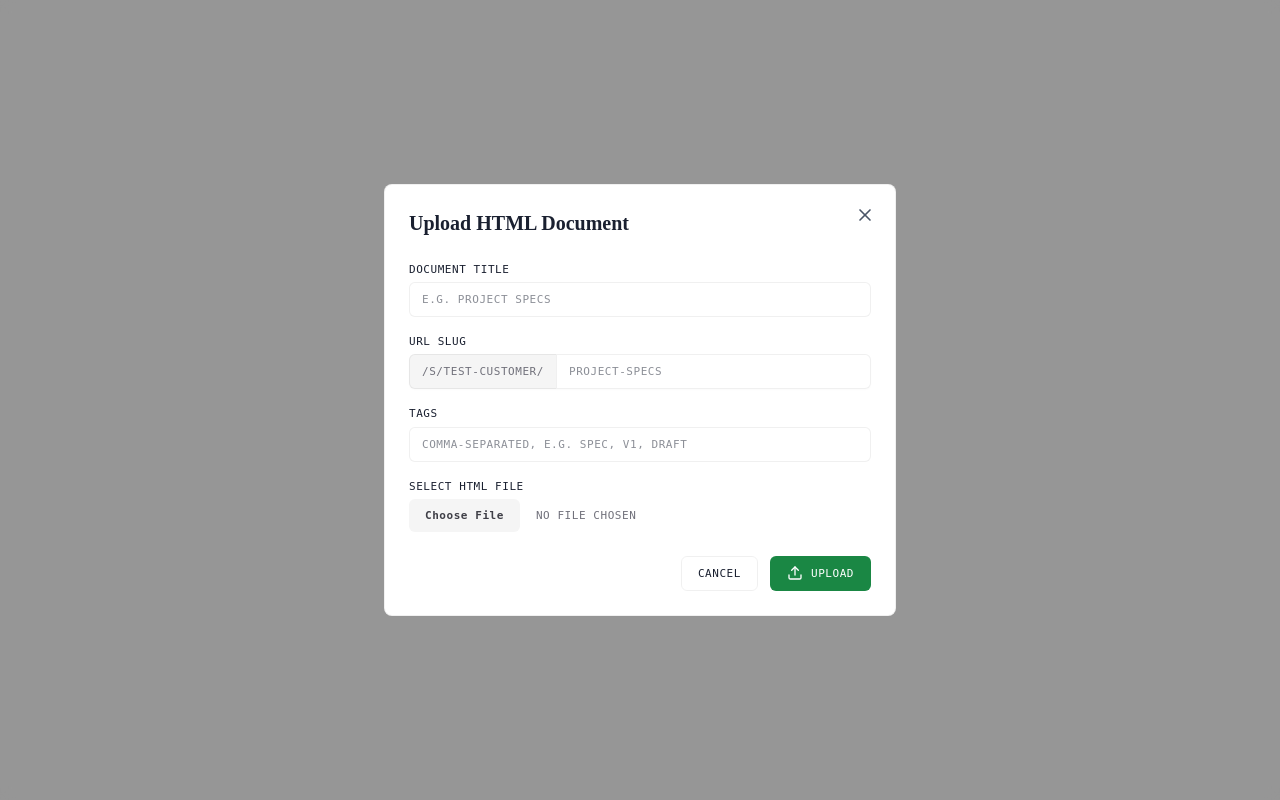
Test: UploadModal Component › validates required fields on submit
Step 1. Type "Test Title" into the field labelled "Document Title" → (640,300), box [409,282,871,317]
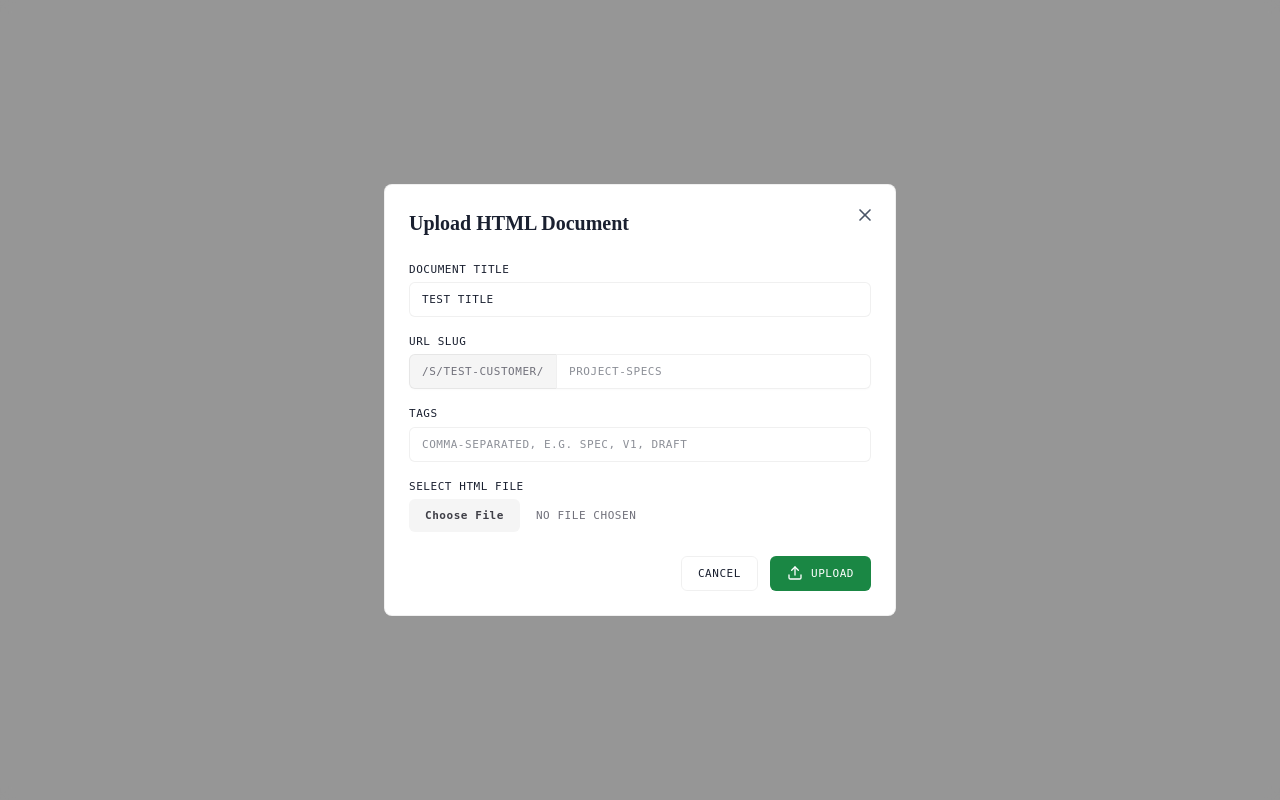
Step 2. Type "test-slug" into the field labelled "URL Slug" → (714,372), box [556,354,871,389]
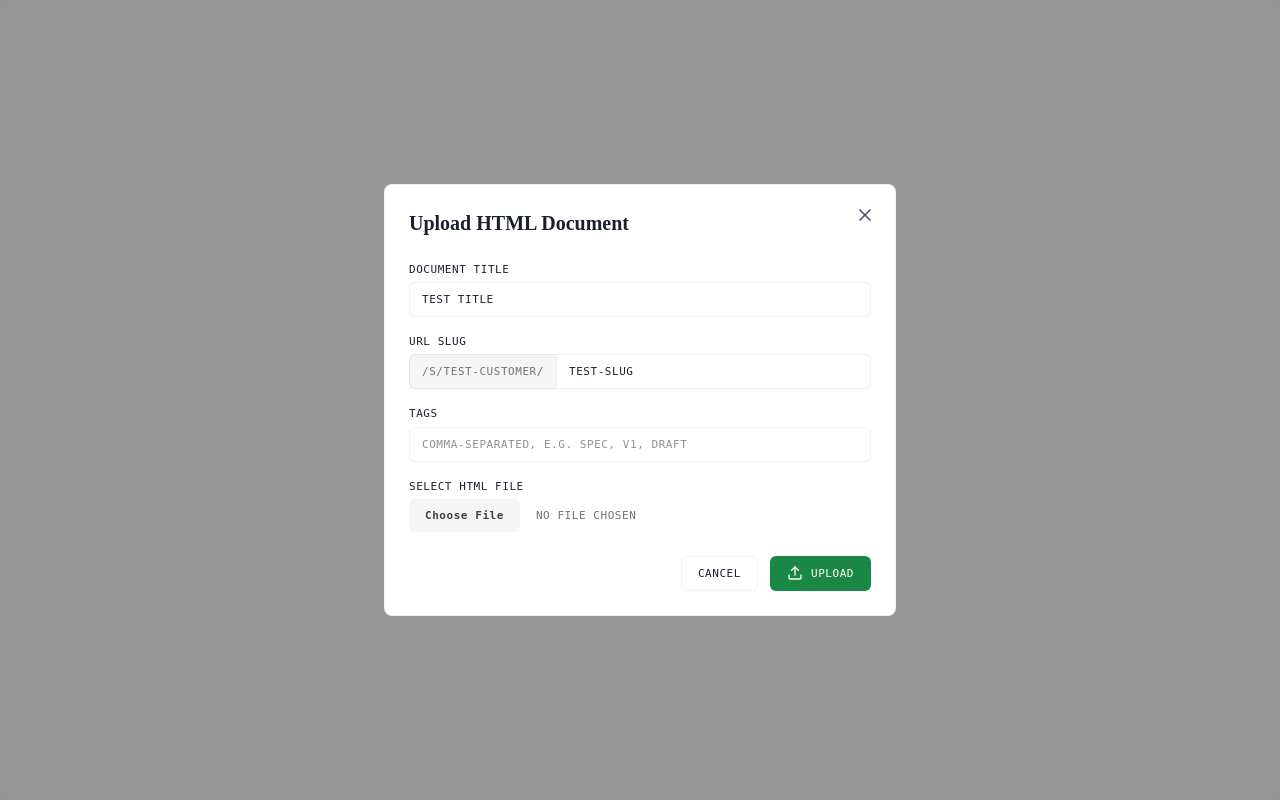
Step 3. Click the button "Upload" → (820,573), box [770,556,871,591]
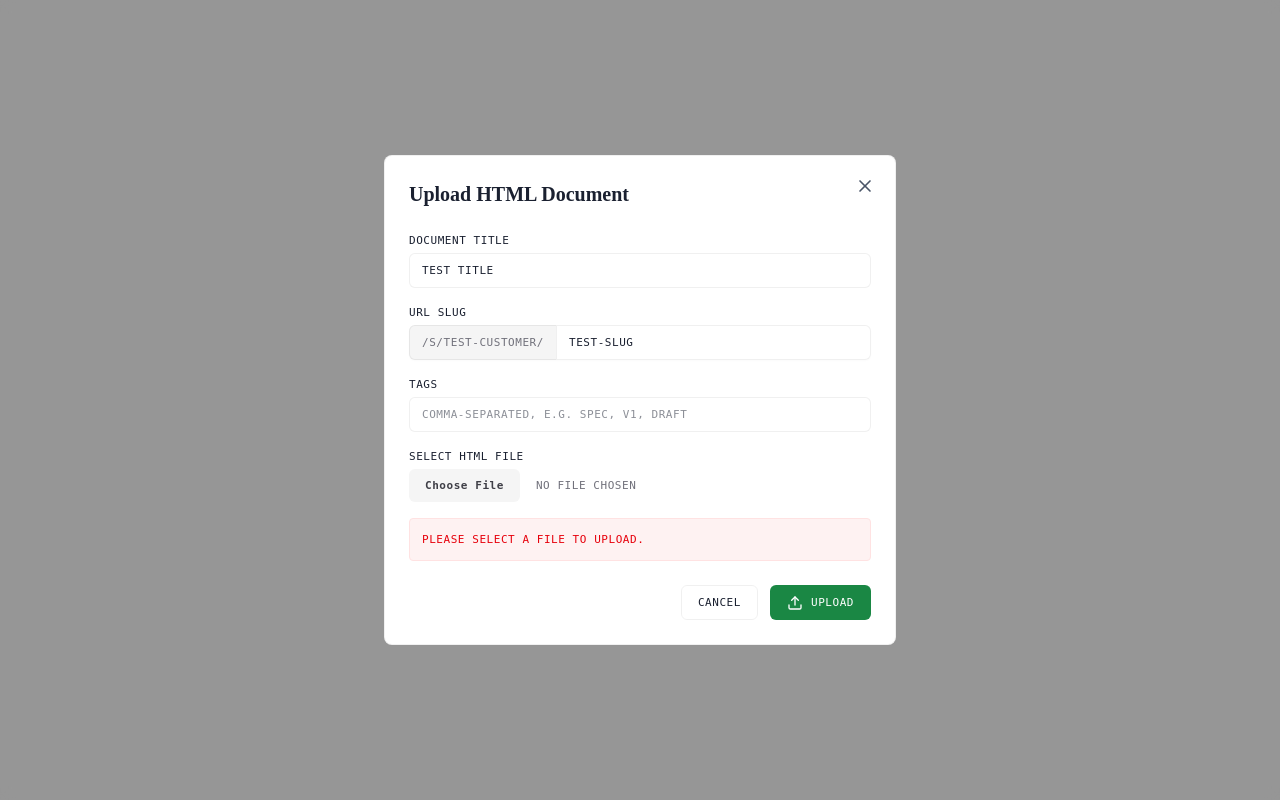
Result: the text "Please select a file to upload." is shown at [409,518,871,561]
